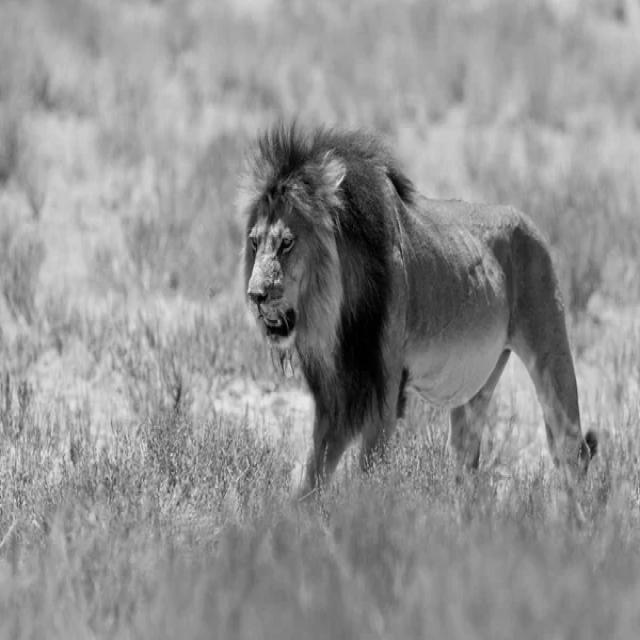Animal: (239, 125, 596, 490)
